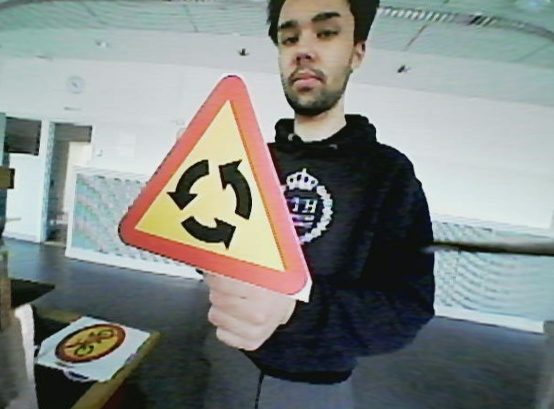roundabout_warning: (114, 65, 307, 308)
